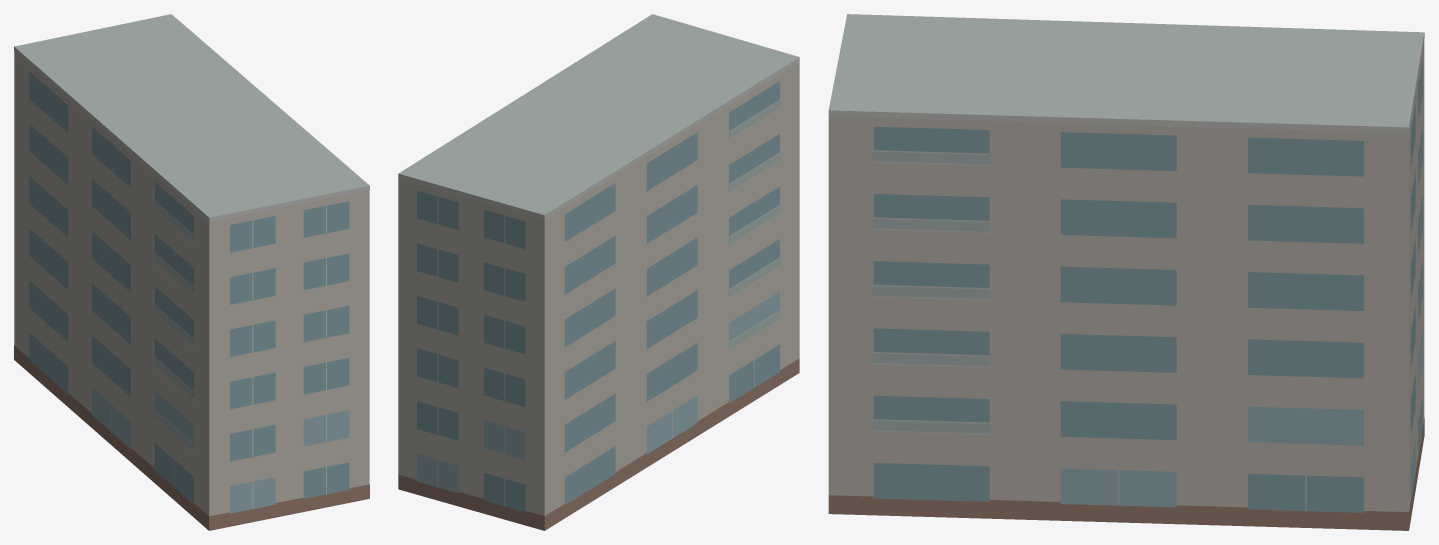
File: survey-upis-32656669.glb
3 renders of one model, left to right at view 1: azimuth 30°, elevation 25°; view 2: azimuth 150°, elevation 25°; view 3: azimuth 270°, elevation 25°, orthographic. The views are drawn at different scales.
Parts seen in each view (by area): view 1: survey-upis-32656669.tmp; view 2: survey-upis-32656669.tmp; view 3: survey-upis-32656669.tmp.
Boxes of the visible parts, x1=… form: survey-upis-32656669.tmp: x1=14, y1=14, x2=369, y2=530; survey-upis-32656669.tmp: x1=398, y1=14, x2=799, y2=530; survey-upis-32656669.tmp: x1=828, y1=14, x2=1424, y2=530.
Size of the model in its own units: 9.95 by 16.5 by 22.09.
